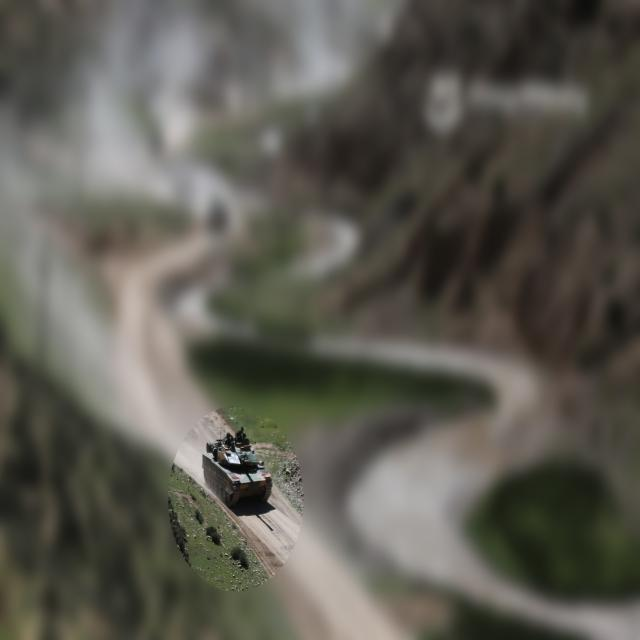tank: (202, 434, 272, 508)
